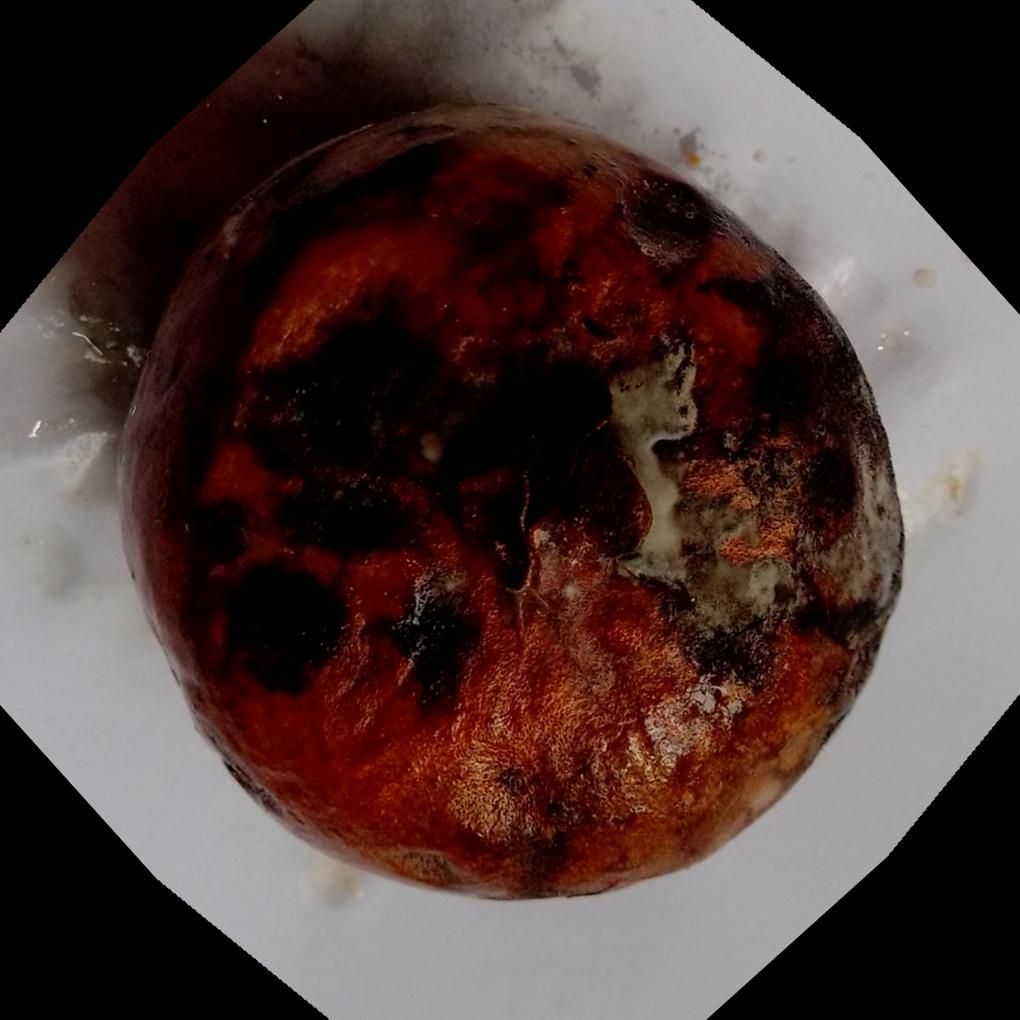FreshOrange: (110, 104, 905, 905)
